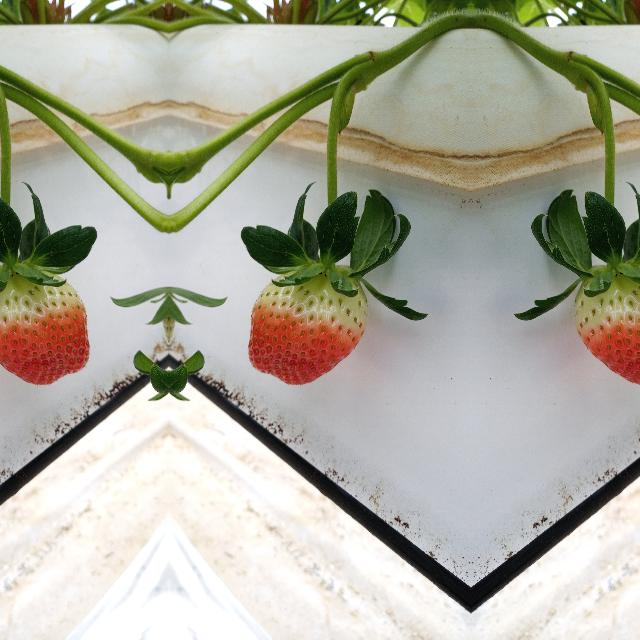Health_75: (246, 270, 368, 384), (0, 270, 89, 384), (573, 270, 640, 384)
